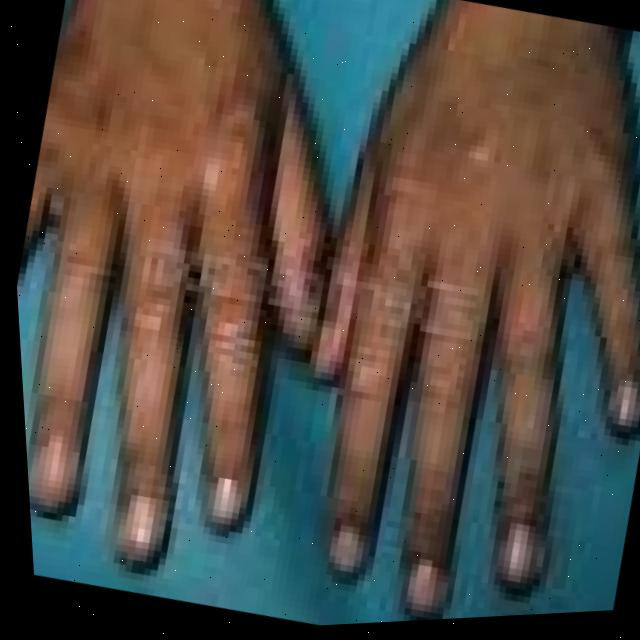Melasma: (372, 0, 640, 241), (37, 0, 353, 182)
